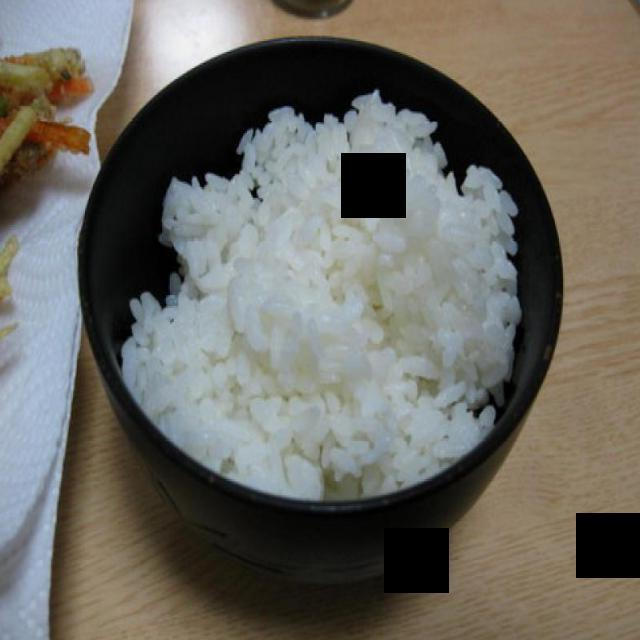rice: (120, 90, 521, 500)
